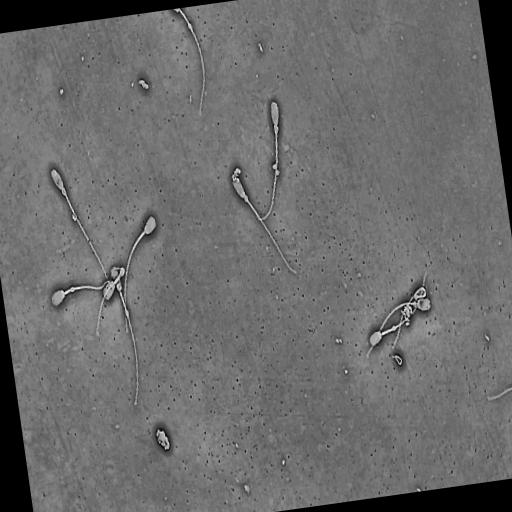dirt-particles: (154, 426, 171, 454), (400, 303, 414, 328), (137, 77, 151, 92), (393, 353, 405, 367)
distal-droplet: (125, 310, 129, 317), (188, 23, 192, 30), (392, 325, 396, 331), (71, 287, 75, 292)
folded-tail: (392, 287, 426, 349), (97, 267, 125, 333)
loose-tail: (486, 385, 512, 403)
normal: (48, 165, 112, 290), (231, 174, 299, 276), (368, 270, 428, 349), (123, 212, 158, 336), (110, 265, 140, 408), (364, 296, 432, 359), (172, 8, 207, 118), (50, 264, 127, 309), (256, 99, 281, 223), (392, 283, 428, 350), (95, 265, 126, 338)
proximal-droplet: (274, 124, 279, 134), (61, 187, 66, 196), (413, 300, 418, 308), (244, 195, 249, 202)
